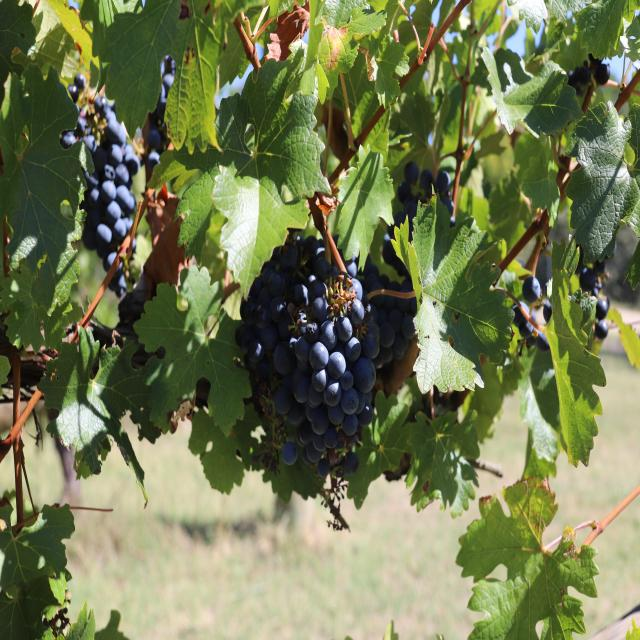grapes: (235, 235, 394, 479), (60, 72, 142, 271), (60, 72, 140, 270), (382, 162, 455, 278), (567, 248, 609, 339), (145, 58, 175, 173), (567, 54, 610, 96)
